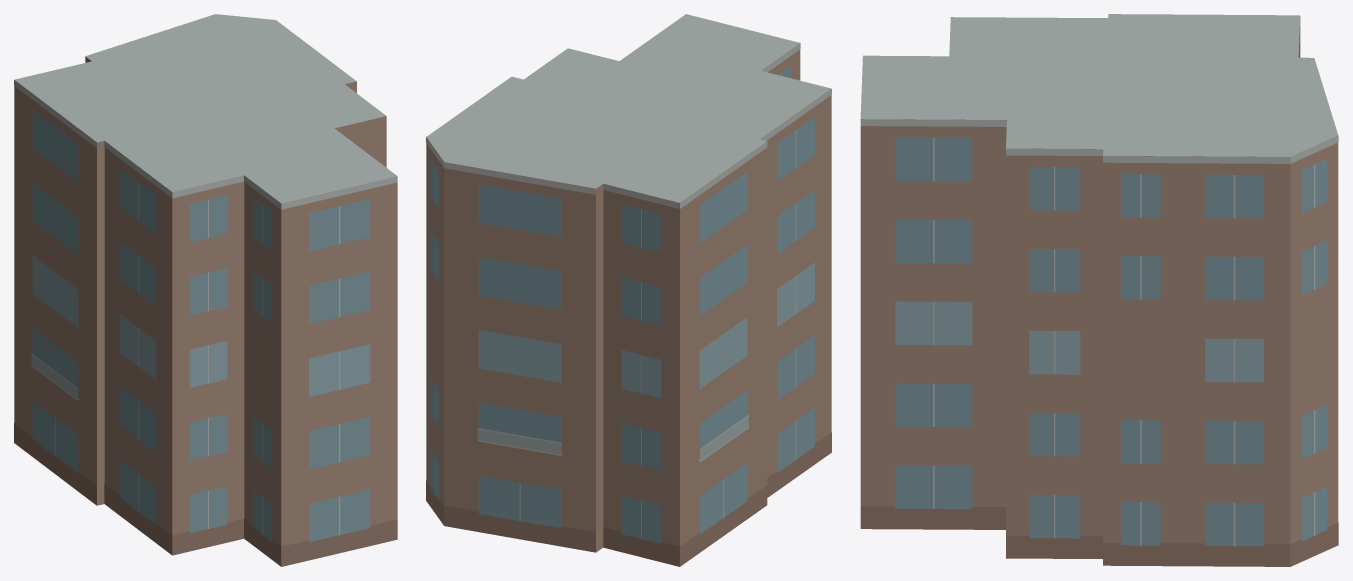
The model's file is survey-upis-32565120.glb.
3 renders of one model, left to right at view 1: azimuth 30°, elevation 25°; view 2: azimuth 150°, elevation 25°; view 3: azimuth 270°, elevation 25°, orthographic. The views are drawn at different scales.
Visible parts, largest first — view 1: survey-upis-32565120.tmp; view 2: survey-upis-32565120.tmp; view 3: survey-upis-32565120.tmp.
Boxes of the visible parts, box(x1,y1,x2,y2) form: survey-upis-32565120.tmp: box(14, 14, 397, 566); survey-upis-32565120.tmp: box(426, 14, 831, 566); survey-upis-32565120.tmp: box(860, 14, 1338, 566).
Size of the model in its own units: 10.8 by 14.4 by 15.23.
